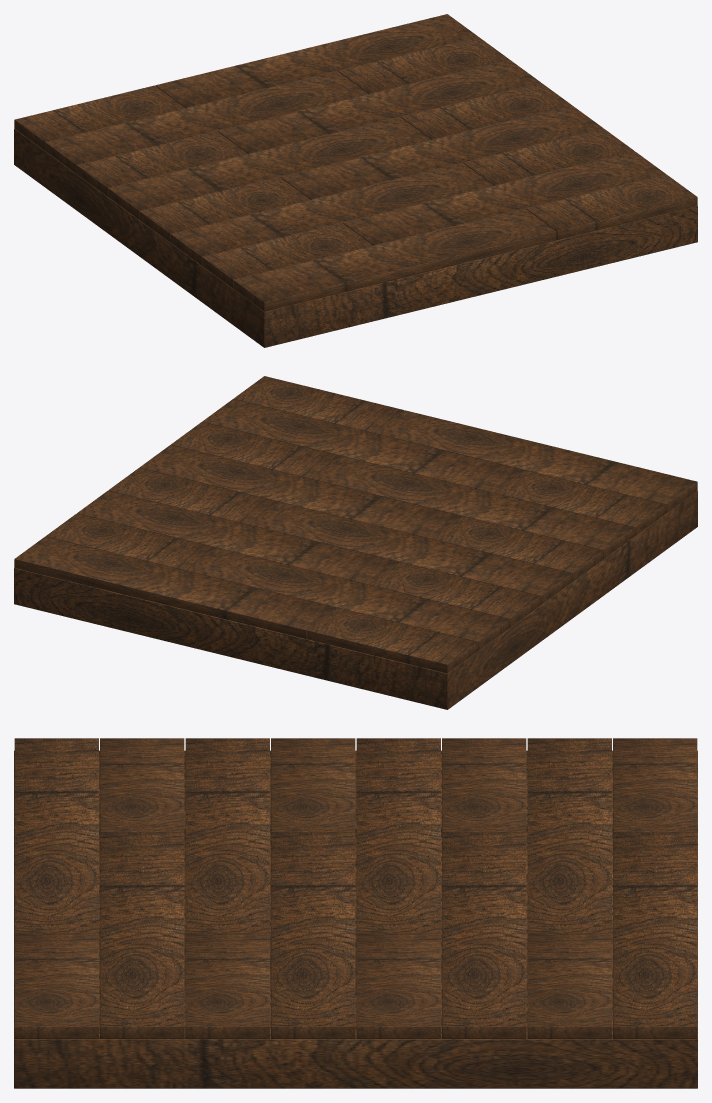
Rendered from SM_MoleControlV2_OakFloor200.fbx.
3 renders of one model, top to bottom at view 1: azimuth 30°, elevation 25°; view 2: azimuth 150°, elevation 25°; view 3: azimuth 270°, elevation 25°, orthographic. The views are drawn at different scales.
Visible parts, largest first — view 1: SM_MoleControlV2_OakFloor200; view 2: SM_MoleControlV2_OakFloor200; view 3: SM_MoleControlV2_OakFloor200.
Boxes of the visible parts, left/top/right/bottom form: SM_MoleControlV2_OakFloor200: left=14, top=14, right=697, bottom=347; SM_MoleControlV2_OakFloor200: left=14, top=376, right=697, bottom=709; SM_MoleControlV2_OakFloor200: left=14, top=738, right=697, bottom=1088.
Size of what is drawn, in the model's own units: 200 by 200 by 20.
